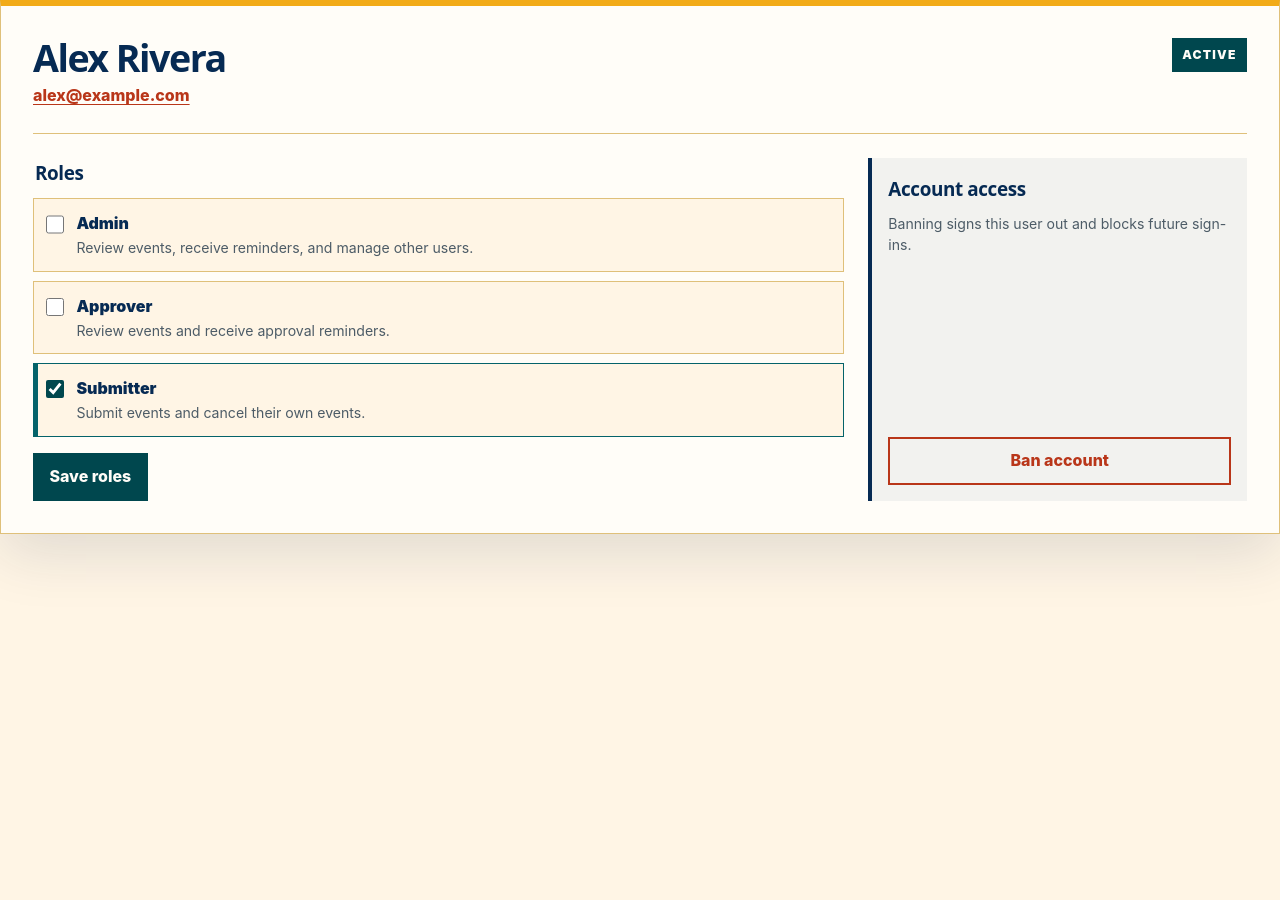
it: UserManagementCard › shows configured role meanings and submits selected roles
Expected: the checkbox labelled "Admin" is not checked, x1=46 y1=215 x2=64 y2=234
Expected: the checkbox labelled "Submitter Submit events and cancel their own events." is checked, x1=46 y1=380 x2=64 y2=398
Click the checkbox labelled "Approver Review events and receive approval reminders.".
click(55, 307)  # box x1=46 y1=298 x2=64 y2=316
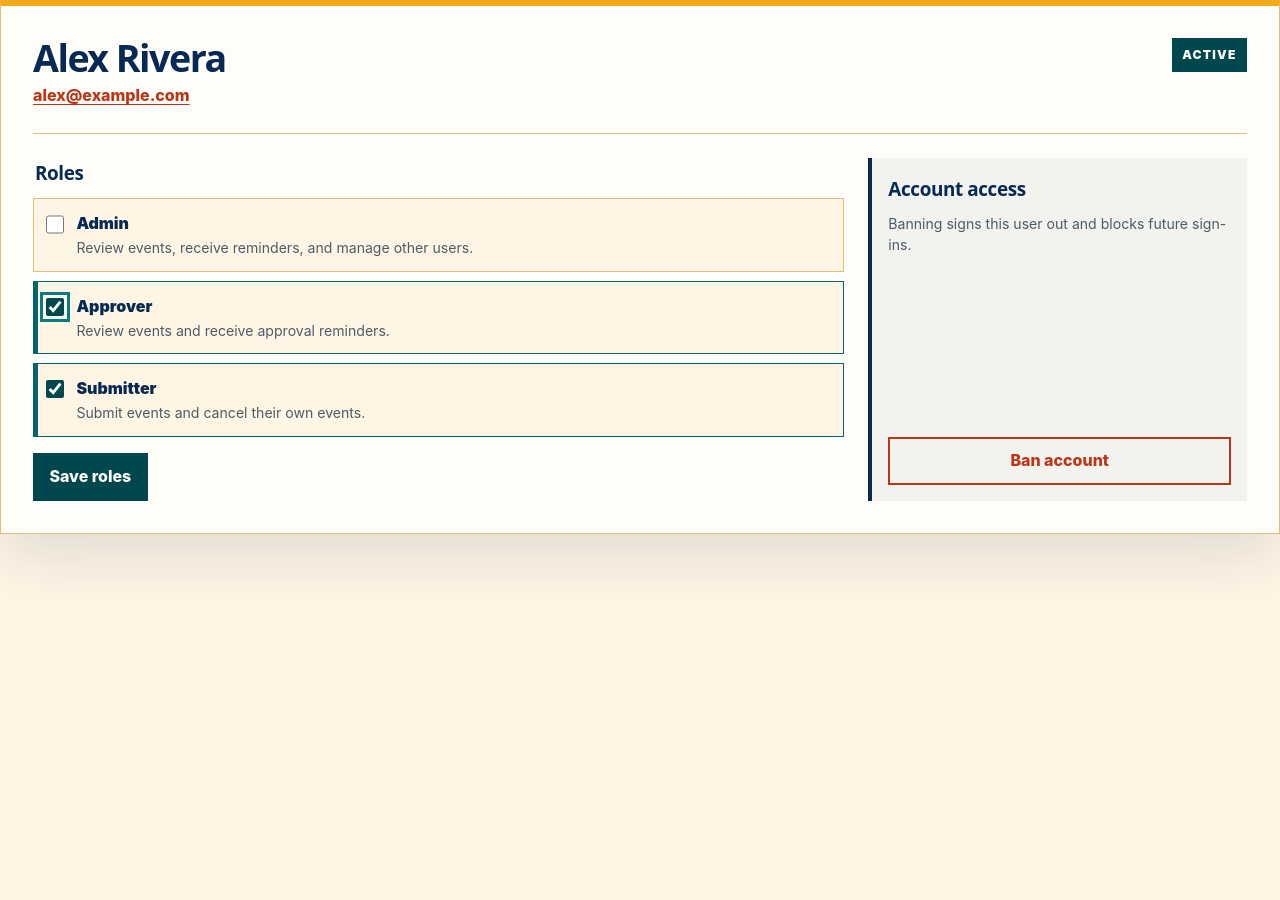
Click the button "Save roles".
click(90, 477)  # box x1=33 y1=453 x2=148 y2=501
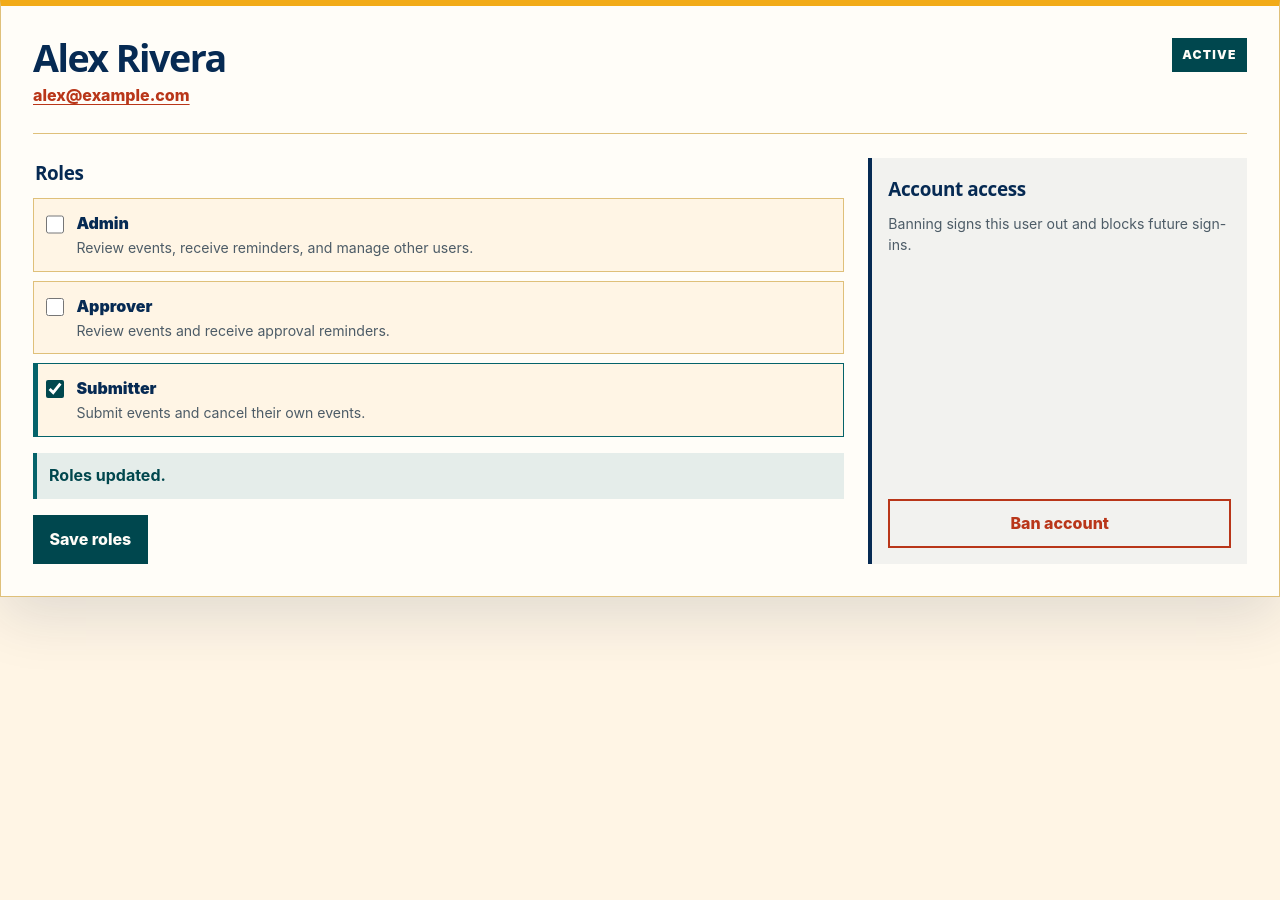
Now the message reads "Roles updated.", box x1=49 y1=465 x2=166 y2=485
